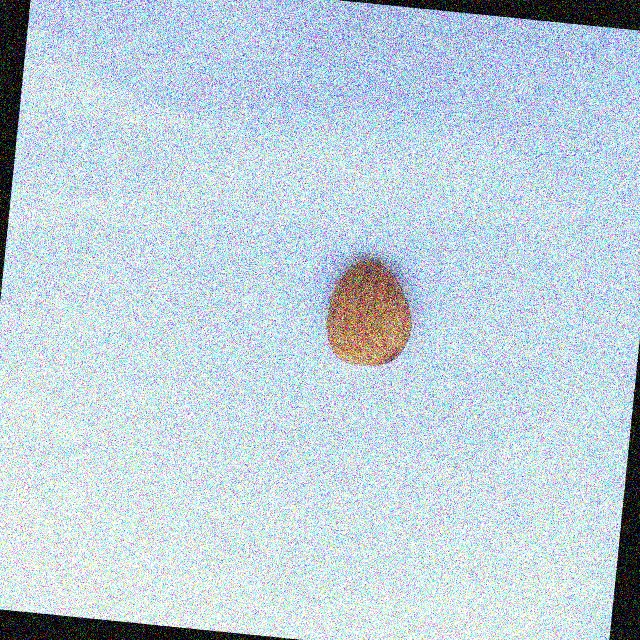grade1: (312, 247, 425, 378)
